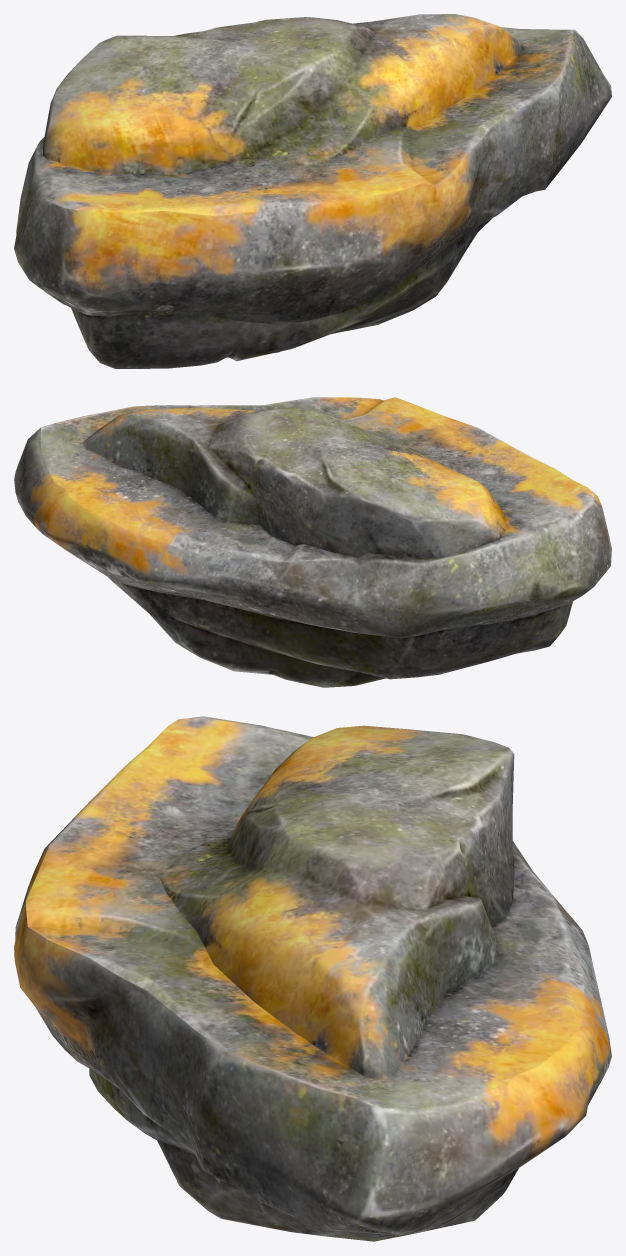
3 renders of one model, top to bottom at view 1: azimuth 30°, elevation 25°; view 2: azimuth 150°, elevation 25°; view 3: azimuth 270°, elevation 25°, orthographic. The views are drawn at different scales.
Parts seen in each view (by area): view 1: SM_Mining_Node_Medium_Gold_03_LOD0; view 2: SM_Mining_Node_Medium_Gold_03_LOD0; view 3: SM_Mining_Node_Medium_Gold_03_LOD0.
Part boxes in pixels (x1=…): SM_Mining_Node_Medium_Gold_03_LOD0: x1=14, y1=14, x2=611, y2=368; SM_Mining_Node_Medium_Gold_03_LOD0: x1=14, y1=397, x2=611, y2=687; SM_Mining_Node_Medium_Gold_03_LOD0: x1=14, y1=716, x2=611, y2=1241.
Size of the model in its own units: 3.55 by 1.49 by 2.16.
